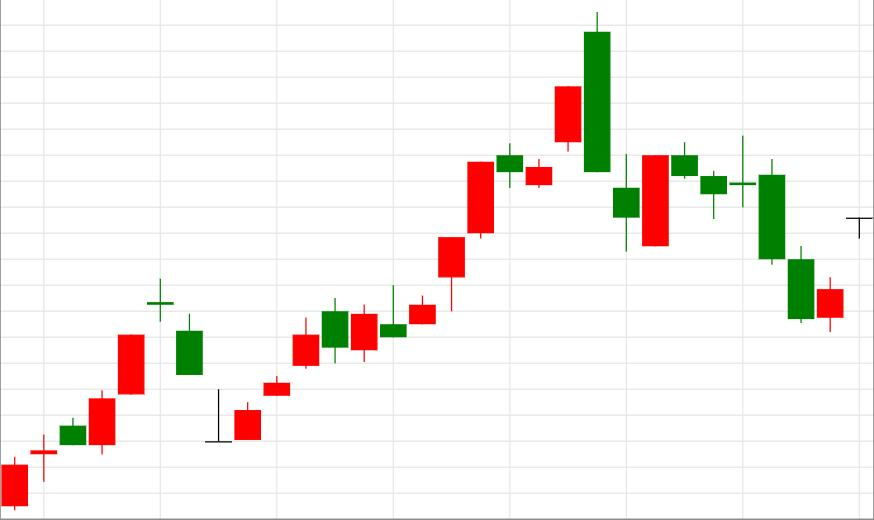bearish_engulfing_fall: (409, 10, 611, 324)
evening_star_fall: (2, 279, 203, 511)
